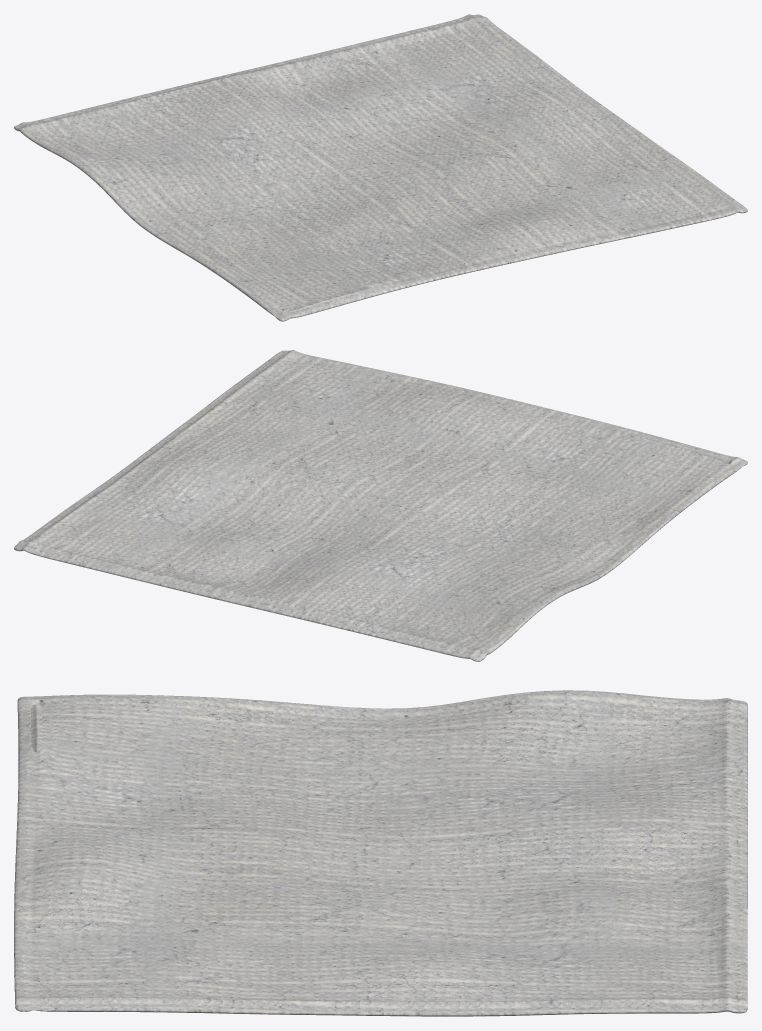
Rendered from zoukin.fbx.
The picture shows the model from 3 angles, top to bottom: view 1: azimuth 30°, elevation 25°; view 2: azimuth 150°, elevation 25°; view 3: azimuth 270°, elevation 25°; orthographic projection. The views are drawn at different scales.
Parts seen in each view (by area): view 1: Plane; view 2: Plane; view 3: Plane.
Boxes of the visible parts, box(x1,y1,x2,y2) form: Plane: box(14, 14, 747, 321); Plane: box(14, 350, 747, 661); Plane: box(14, 690, 747, 1016).
Size of the model in its own units: 29.24 by 1.37 by 29.27.
